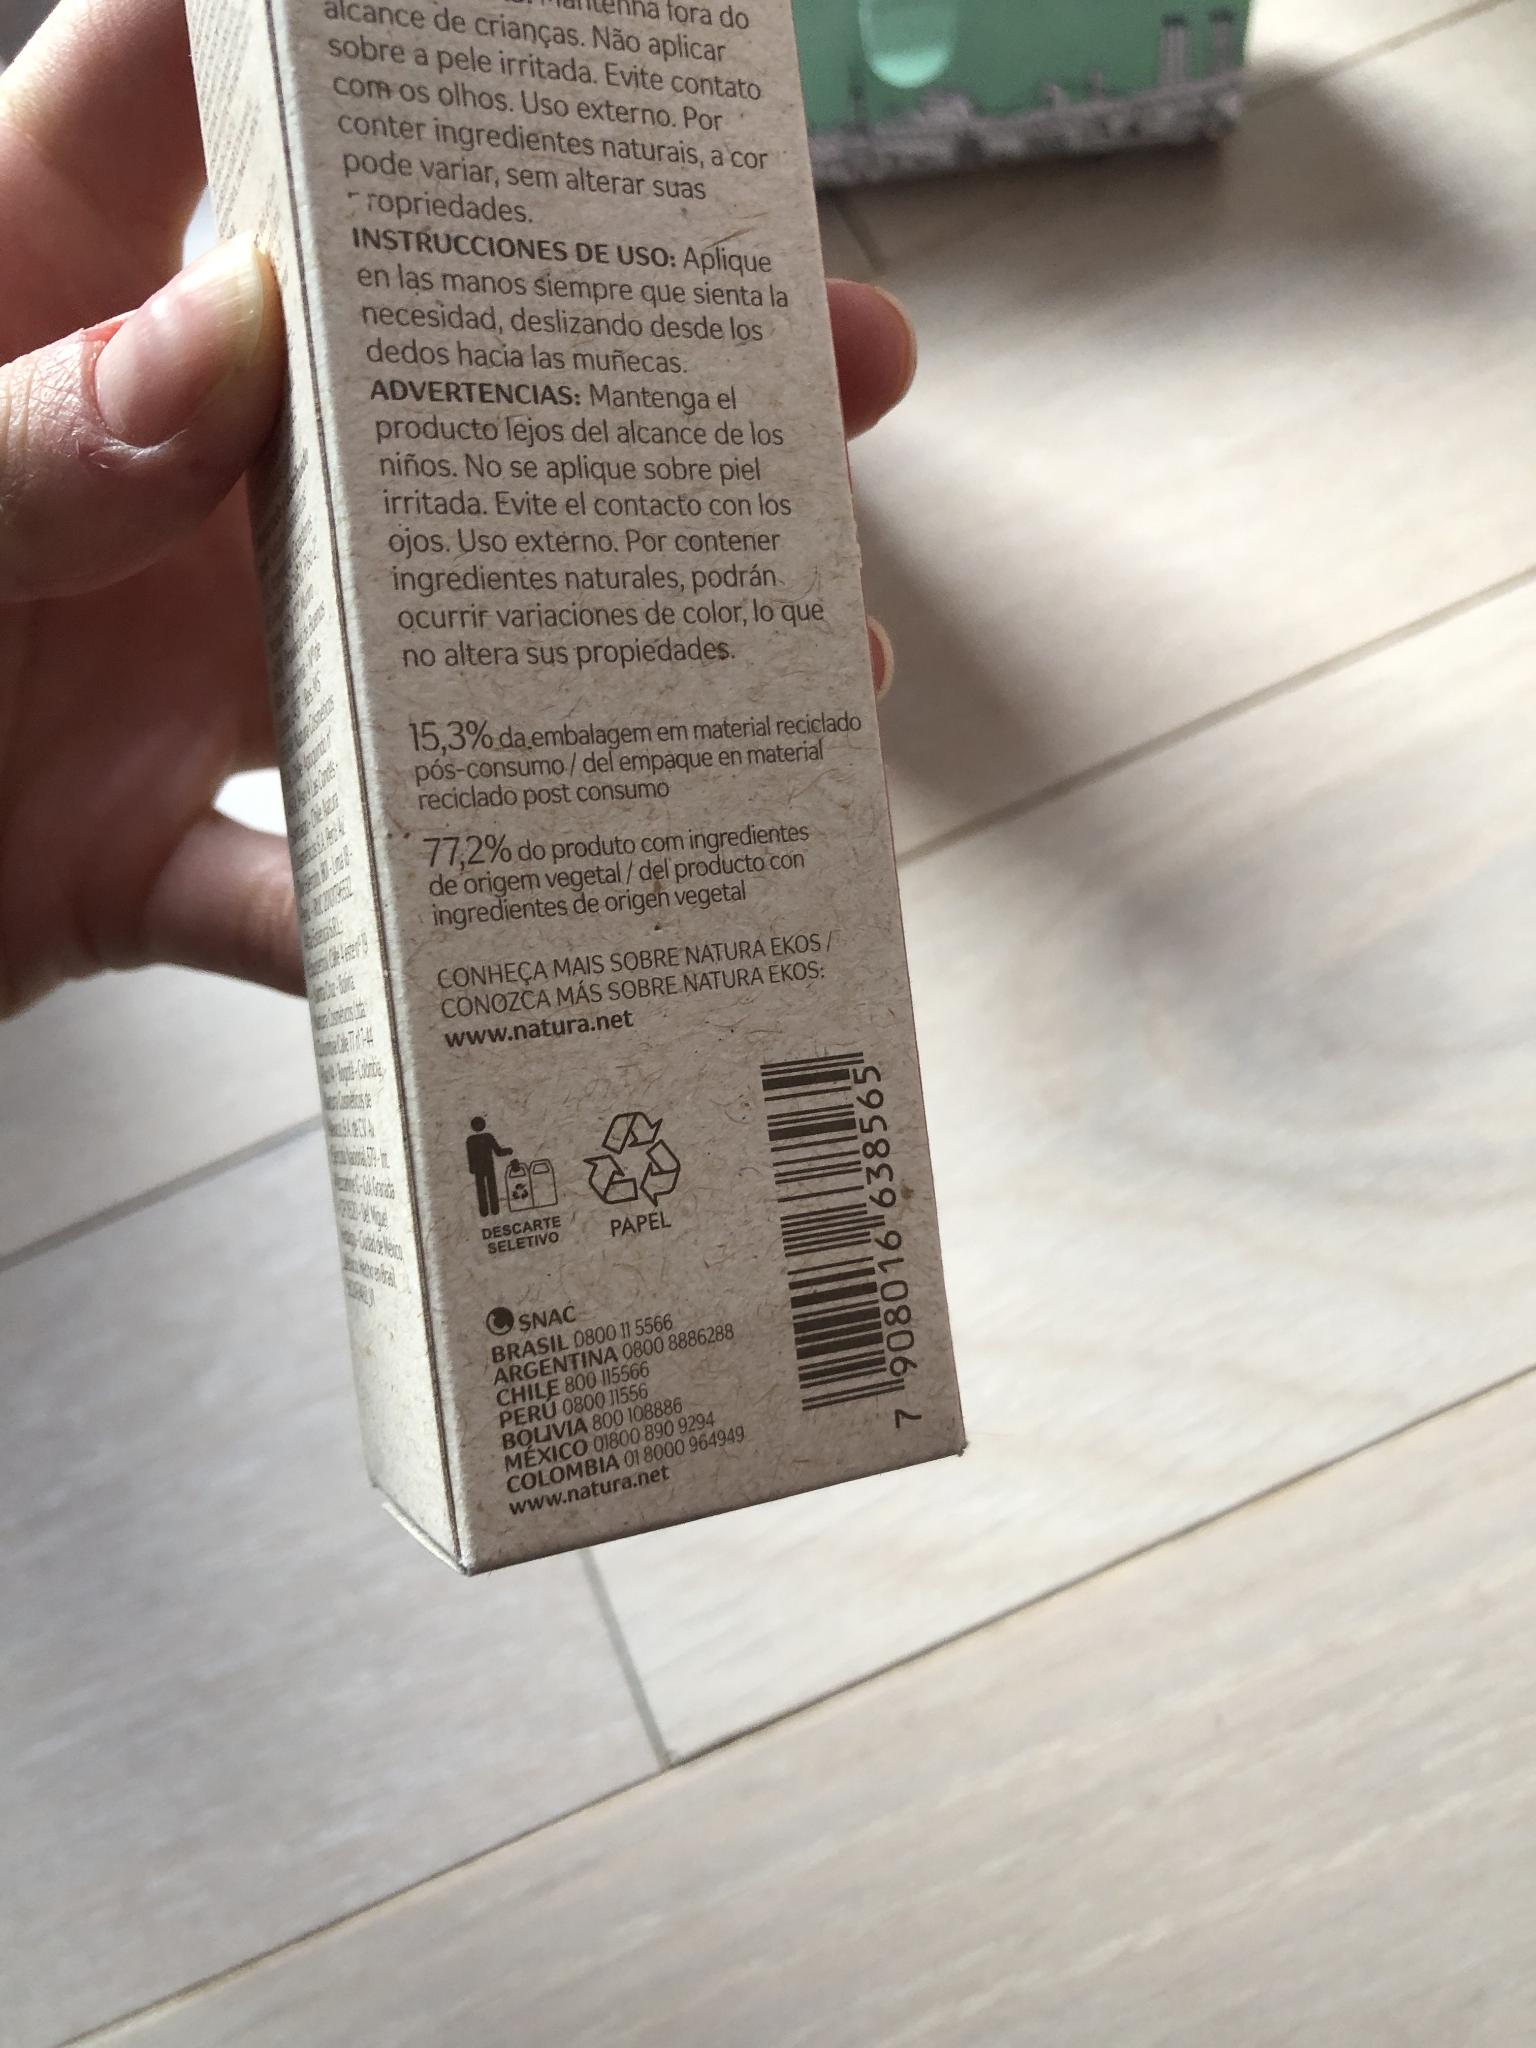cardboard: (190, 0, 963, 1567)
